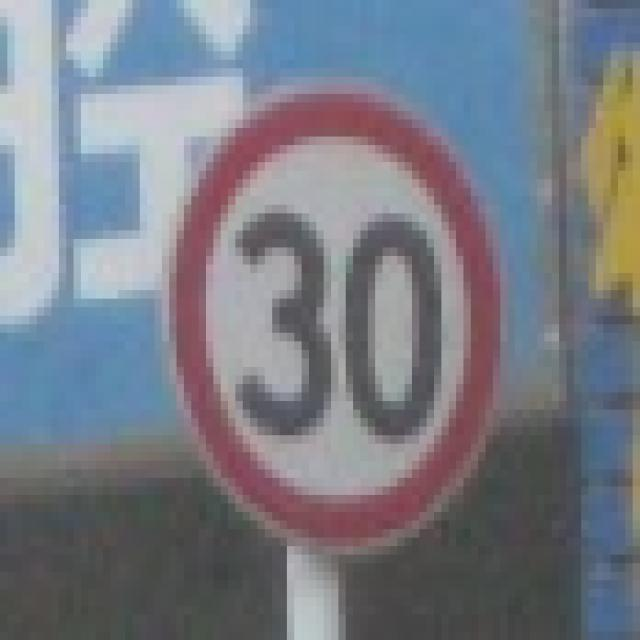Speed Limit -30-: (228, 209, 443, 442)
